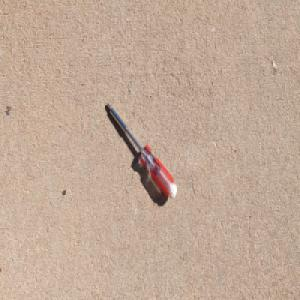Screwdriver: (104, 100, 178, 201)
